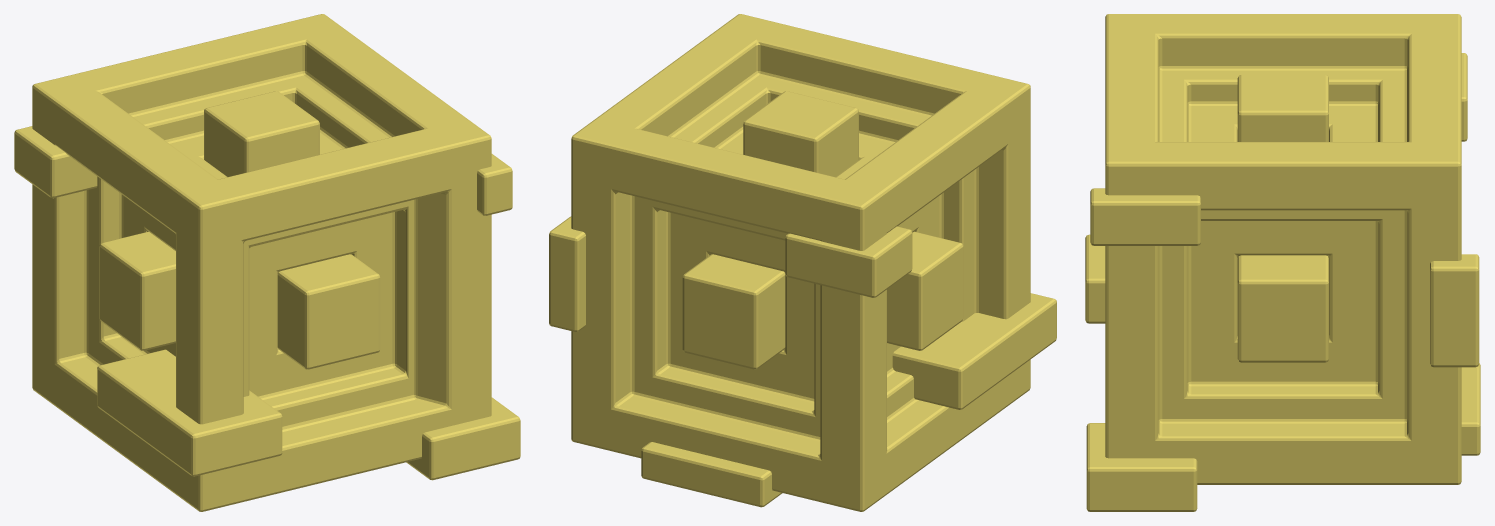
The model's file is CUBES_LVL5.fbx.
3 views of the same model, side by side, from view 1: azimuth 30°, elevation 25°; view 2: azimuth 150°, elevation 25°; view 3: azimuth 270°, elevation 25° (orthographic). The views are drawn at different scales.
Visible parts, largest first — view 1: Cube.045; view 2: Cube.045; view 3: Cube.045.
Boxes of the visible parts, box(x1,y1,x2,y2) form: Cube.045: box(14, 14, 520, 511); Cube.045: box(549, 14, 1056, 511); Cube.045: box(1085, 14, 1480, 511).
Size of the model in its own units: 225 by 210 by 222.
